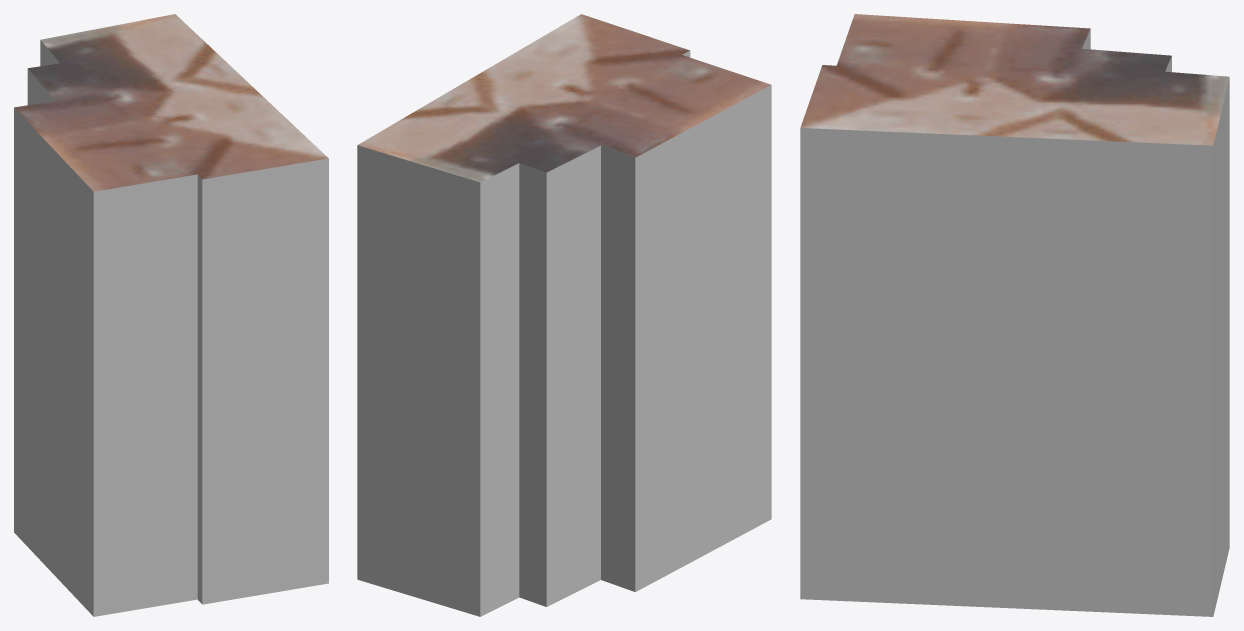
File: DEBW_0010007Txgk.gltf
The picture shows the model from 3 angles, left to right: view 1: azimuth 30°, elevation 25°; view 2: azimuth 150°, elevation 25°; view 3: azimuth 270°, elevation 25°; orthographic projection. The views are drawn at different scales.
Parts seen in each view (by area): view 1: Z_UP; view 2: Z_UP; view 3: Z_UP.
Part boxes in pixels (box(x1,y1,x2,y2)): Z_UP: box(14, 14, 328, 616); Z_UP: box(357, 14, 771, 616); Z_UP: box(800, 14, 1229, 616).
Size of the model in its own units: 10.91 by 18.21 by 15.03.
2 materials, 1 textured.
